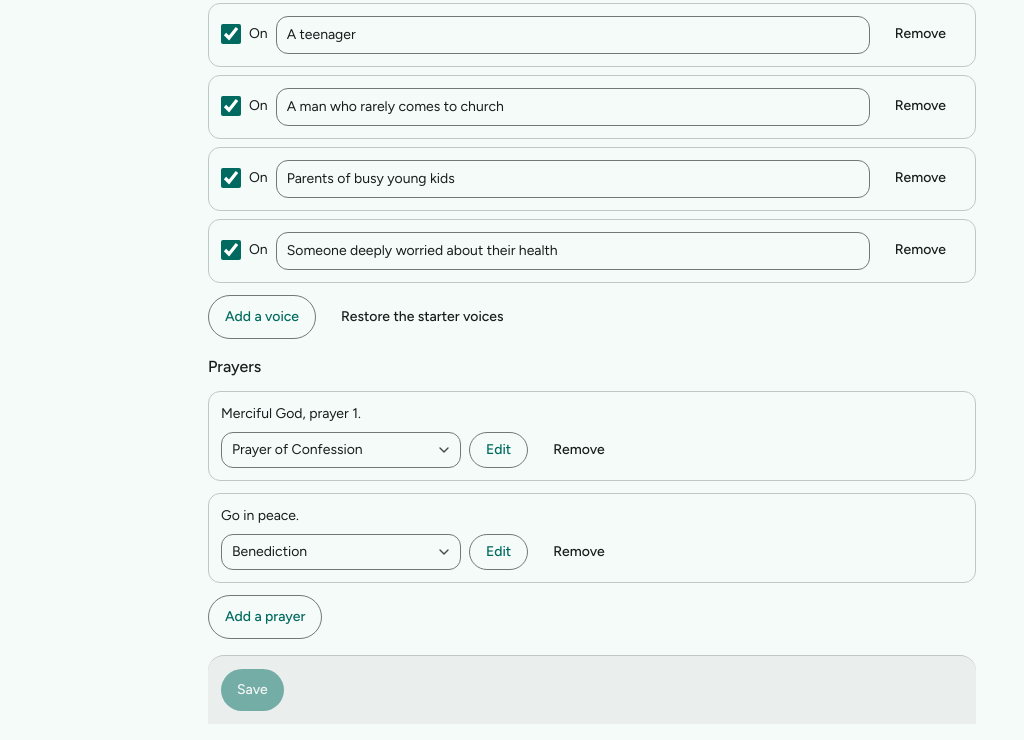
Test: Settings → Prayers (slice 6a-3b) › asks before removing a prayer, puts focus on the next one, and the save leaves it out
This screenshot has width=1024, height=740.
(page scrolled)
Click the button with aria-label "Remove prayer 1". click: (579,450)
box: [536, 432, 622, 468]
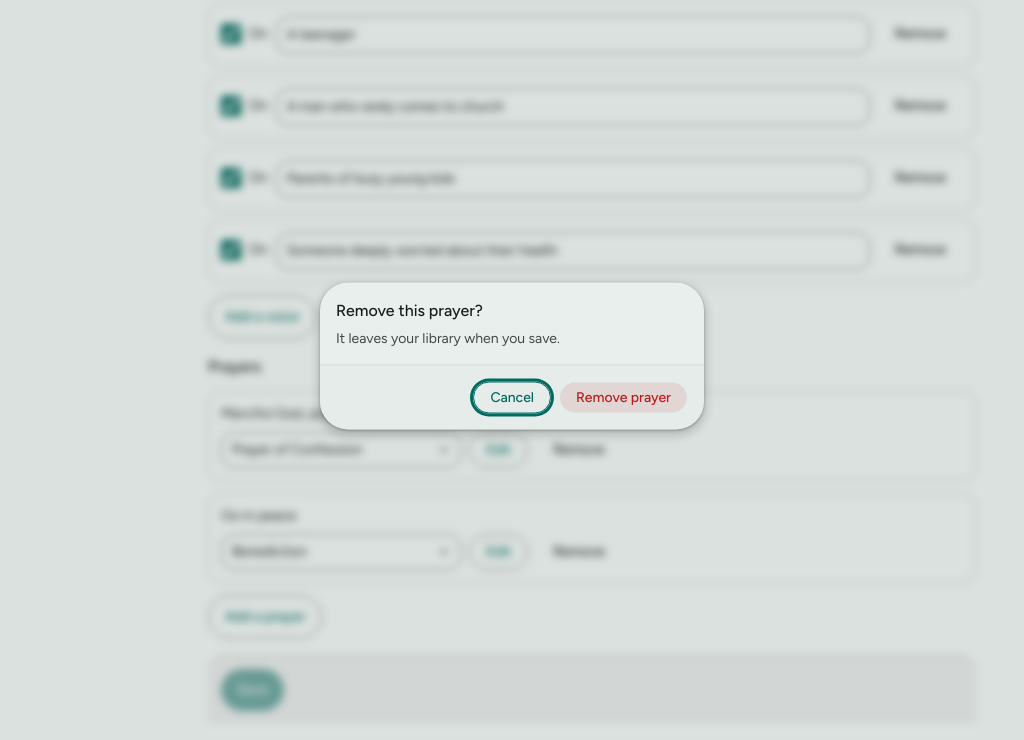
Now the dialog "Remove this prayer?" shows "It leaves your library when you save.", box [336, 330, 560, 346]
Click the button "Cancel". click: (512,398)
box: [473, 382, 551, 414]
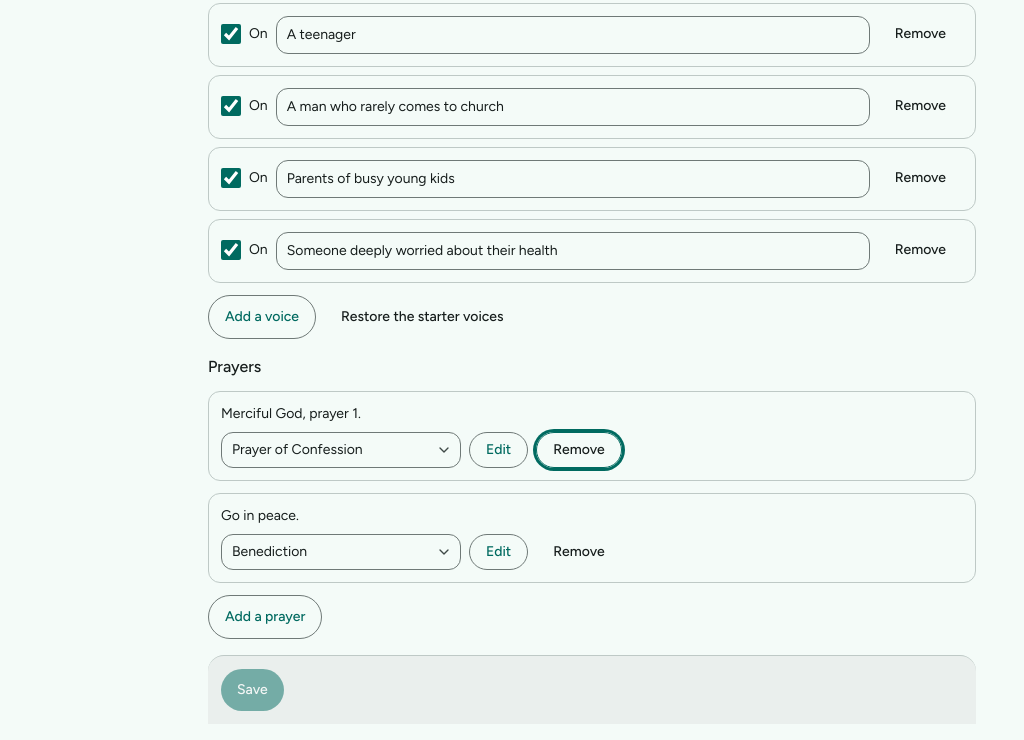
Now the dialog is gone
Click the button with aria-label "Remove prayer 1". click: (579,450)
box: [536, 432, 622, 468]
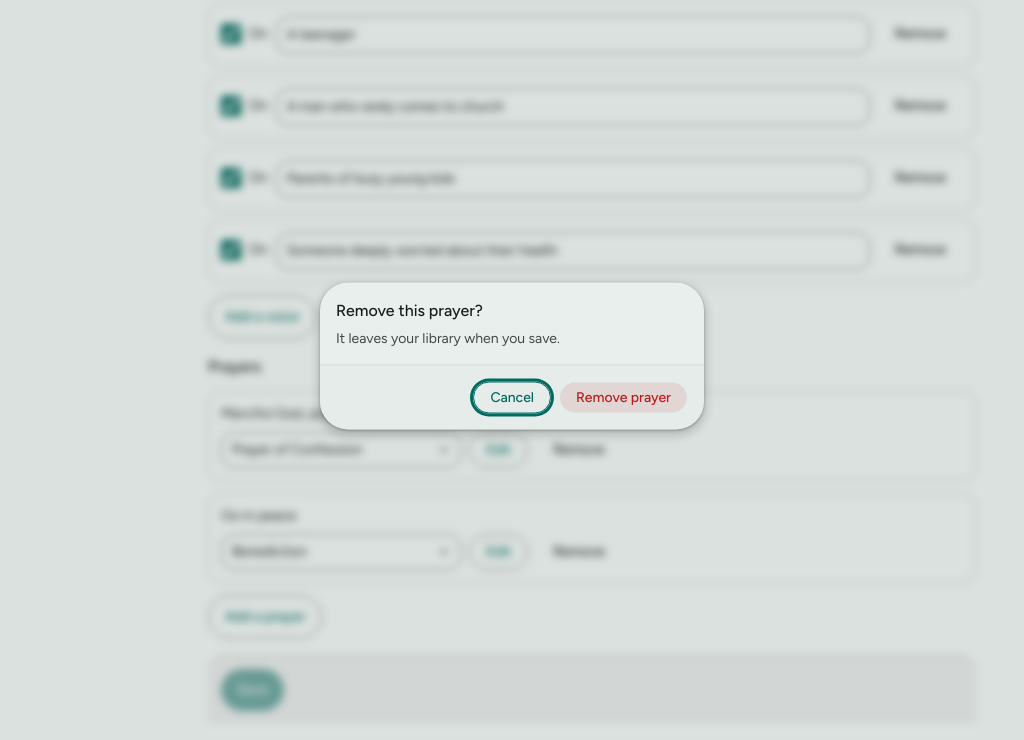
Click the button "Remove prayer". click: (624,398)
box: [559, 382, 688, 414]
(page scrolled)
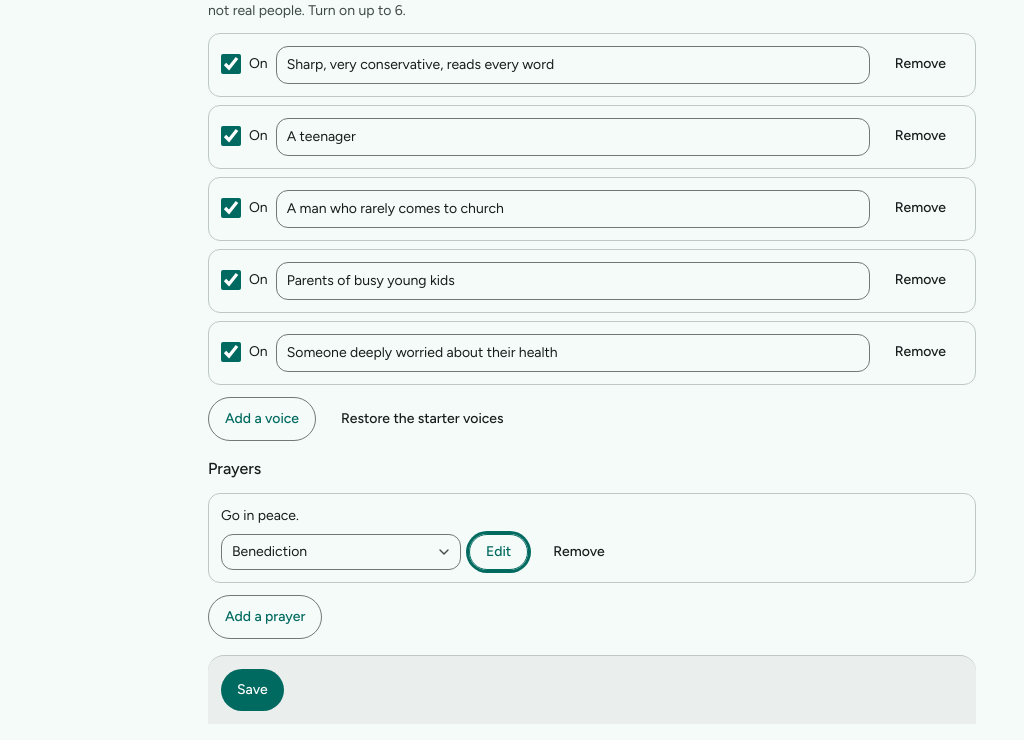
Now the dialog is gone
Click the button "Save". click: (252,690)
box: [220, 668, 285, 712]
(page scrolled)
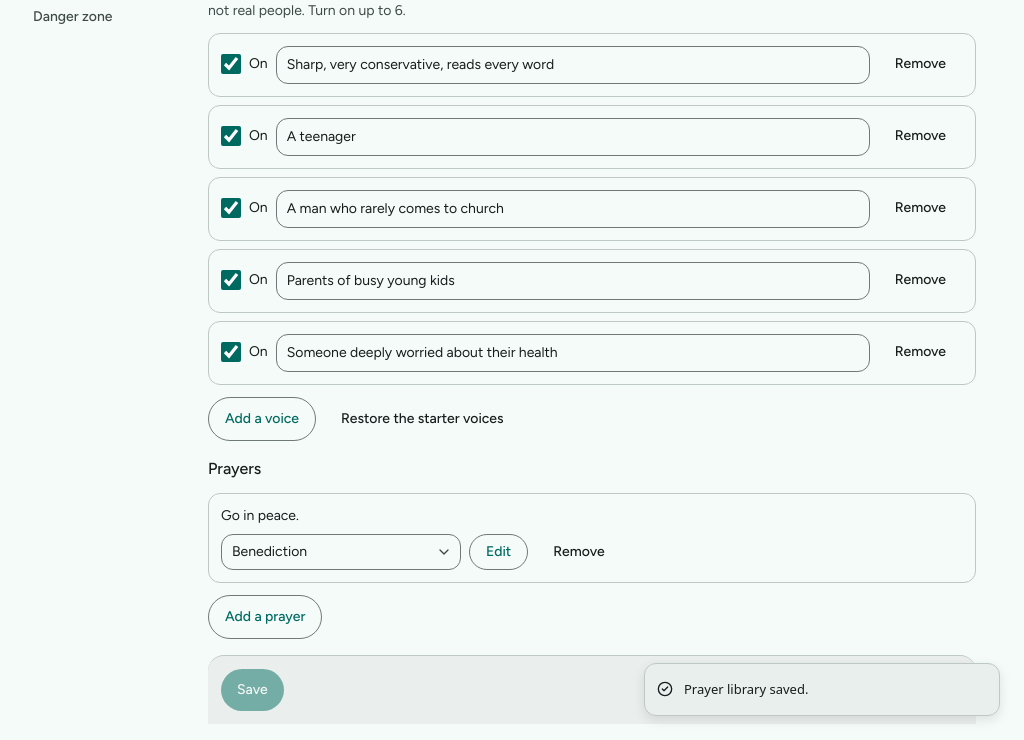
Now the text "Prayer library saved." is shown, box [684, 680, 808, 699]
